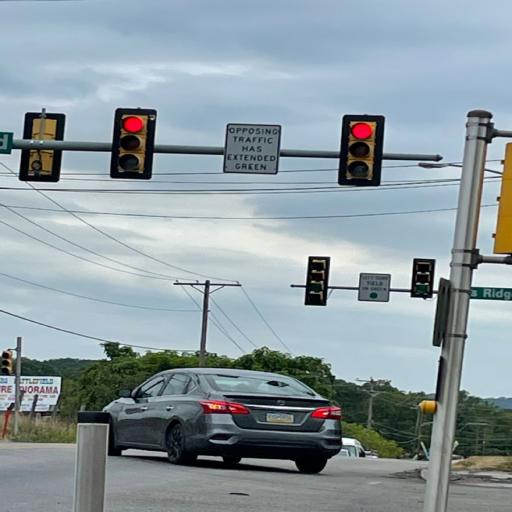bottle: (103, 368, 342, 474)
phone: (424, 110, 493, 511), (175, 280, 241, 367)
ramp: (106, 451, 424, 511)
table: (110, 108, 157, 179), (338, 115, 385, 186)
